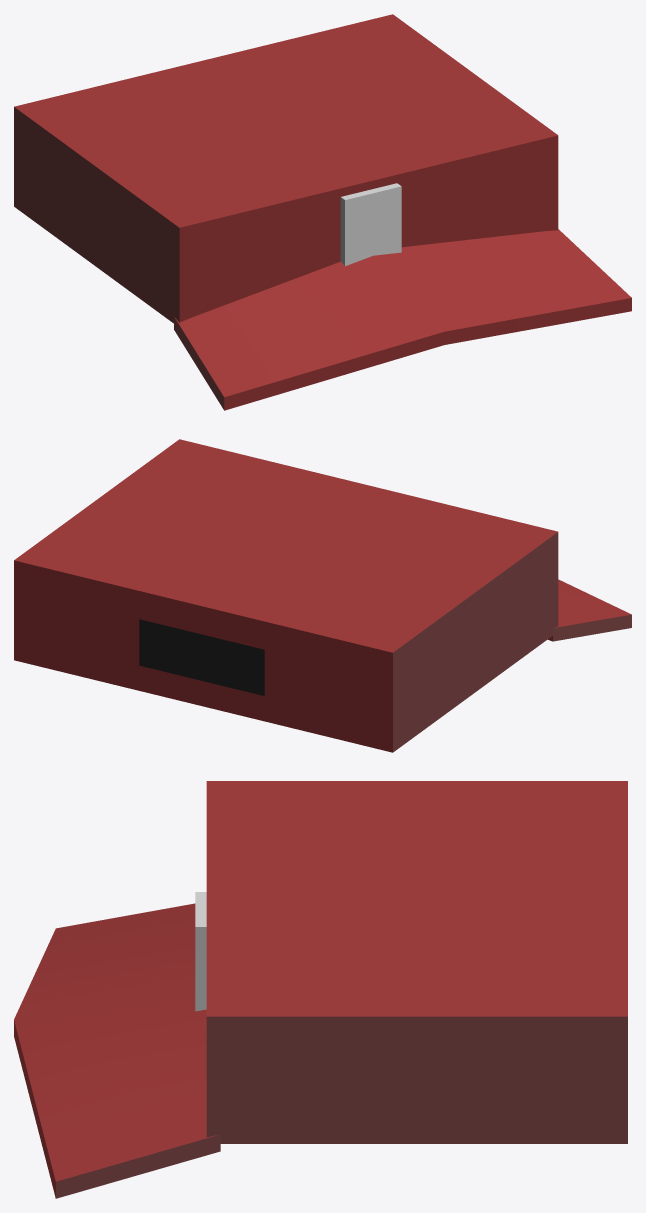
The model's file is Item_HatBaseball02.FBX.
3 renders of one model, top to bottom at view 1: azimuth 30°, elevation 25°; view 2: azimuth 150°, elevation 25°; view 3: azimuth 270°, elevation 25°, orthographic. The views are drawn at different scales.
Visible parts, largest first — view 1: Item_HatBaseball02; view 2: Item_HatBaseball02; view 3: Item_HatBaseball02.
Boxes of the visible parts, x1=… form: Item_HatBaseball02: x1=14, y1=14, x2=631, y2=410; Item_HatBaseball02: x1=14, y1=439, x2=631, y2=752; Item_HatBaseball02: x1=14, y1=781, x2=627, y2=1198.
Size of the model in its own units: 44.9 by 14.32 by 46.28.
